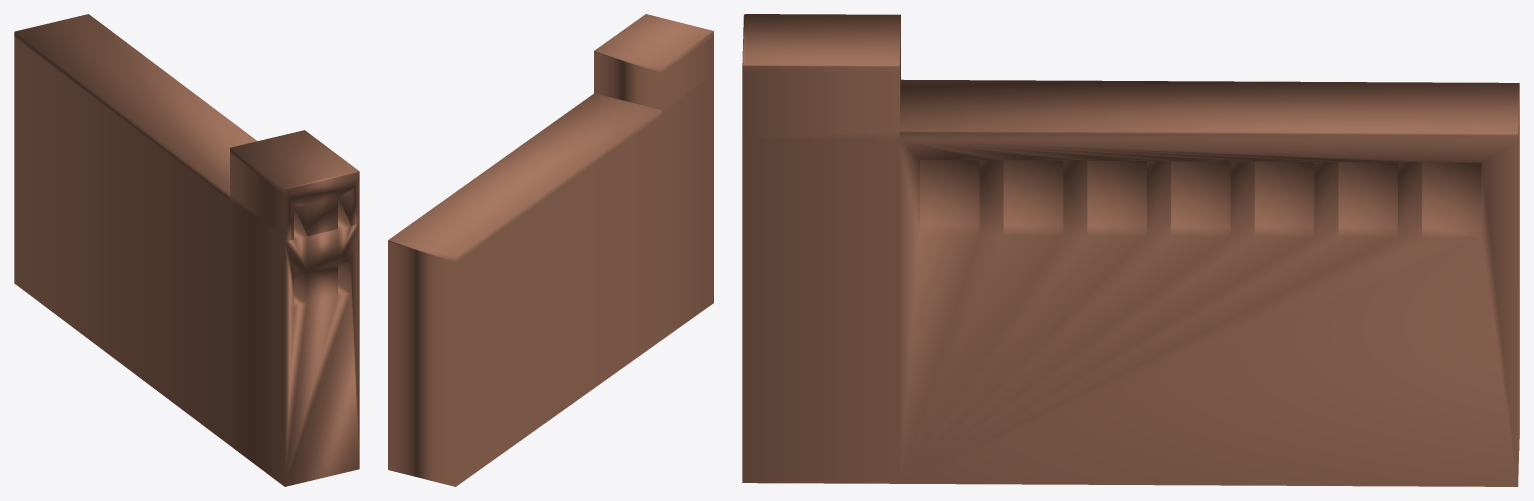
Rendered from test-building.glb.
3 renders of one model, left to right at view 1: azimuth 30°, elevation 25°; view 2: azimuth 150°, elevation 25°; view 3: azimuth 270°, elevation 25°, orthographic. The views are drawn at different scales.
Parts seen in each view (by area): view 1: Cube.002; view 2: Cube.002; view 3: Cube.002.
Part boxes in pixels (box(x1,y1,x2,y2)): Cube.002: box(14, 14, 359, 486); Cube.002: box(388, 14, 713, 486); Cube.002: box(742, 14, 1519, 486).
Size of the model in its own units: 0.1304 by 0.4632 by 0.7803.
